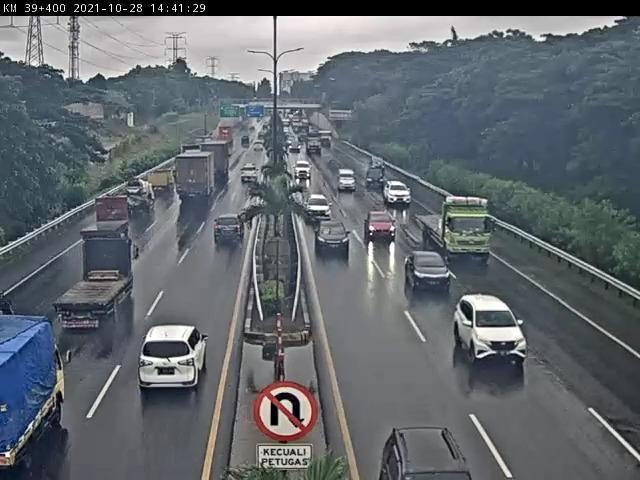car: (454, 294, 530, 365), (138, 324, 208, 395), (406, 251, 453, 293), (316, 221, 351, 255), (214, 213, 245, 246), (365, 213, 397, 242), (305, 194, 333, 221), (384, 183, 412, 208), (337, 170, 357, 193), (240, 164, 259, 183)
truck: (53, 236, 137, 331), (415, 194, 495, 260), (78, 196, 130, 240), (175, 152, 217, 199), (125, 178, 158, 217), (147, 171, 176, 196)
